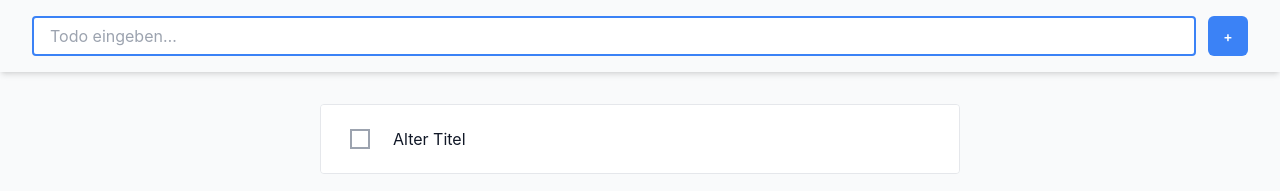
Test: FEAT-4 – Todo bearbeiten (Inline-Editing) › Enter speichert neuen Titel und schließt Input
Double-click the button "Alter Titel".
double_click(429, 139)  # box [393, 129, 466, 149]
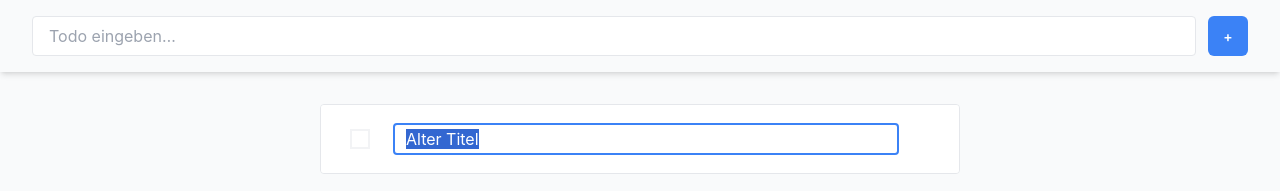
Replace the text in the field named "todo-titel bearbeiten" with "Neuer Titel" at (646, 139), box [393, 123, 899, 155]
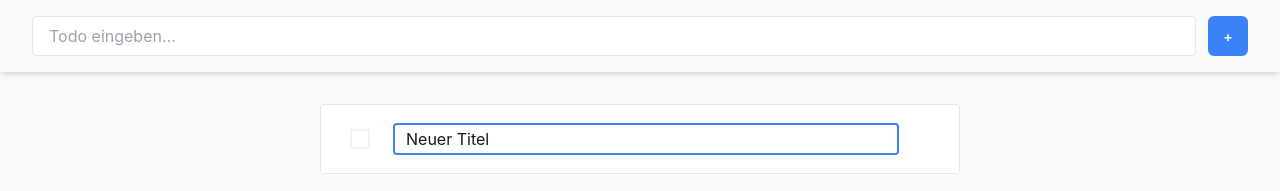
Type keys "[Enter]"
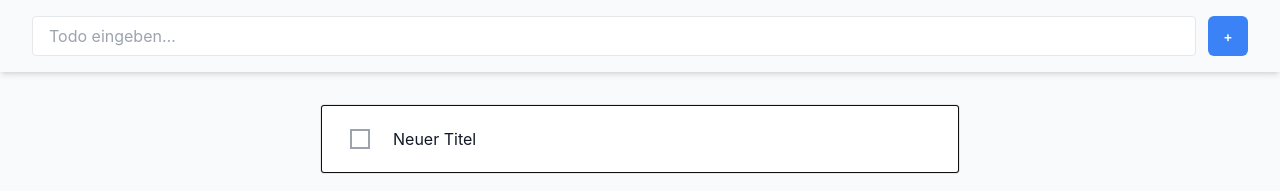
Result: the button "Neuer Titel" is shown at [393, 129, 476, 149]
